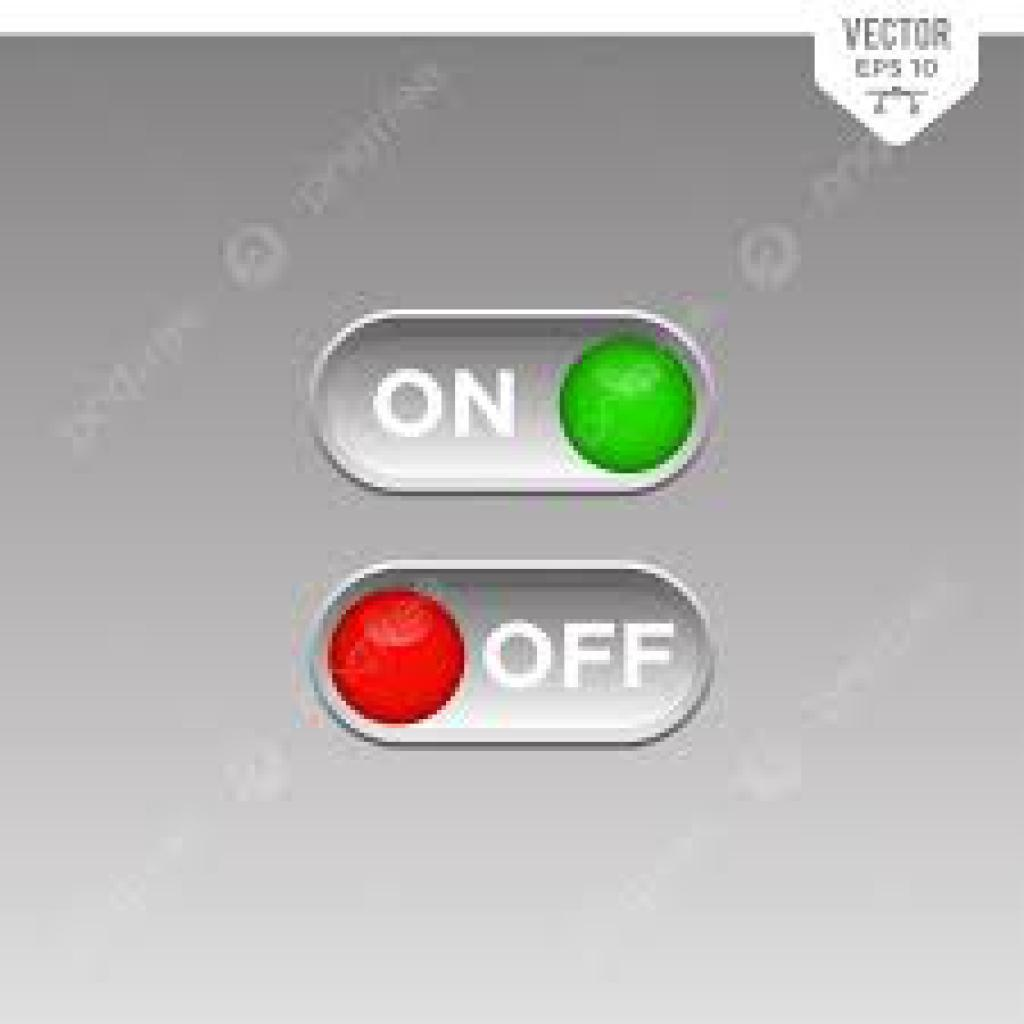switch: (307, 563, 719, 748), (307, 312, 715, 492)
